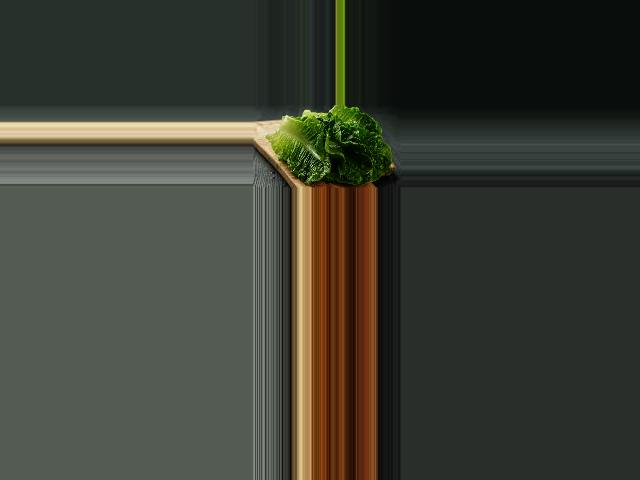lettuce: (271, 106, 395, 188)
